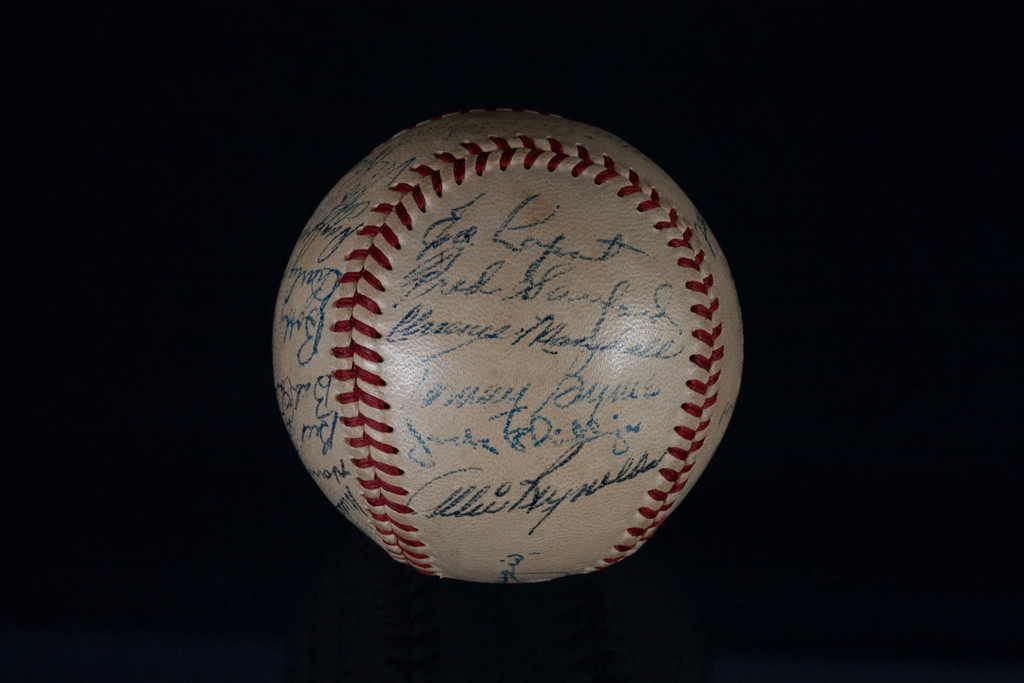Ball: (273, 106, 739, 582)
